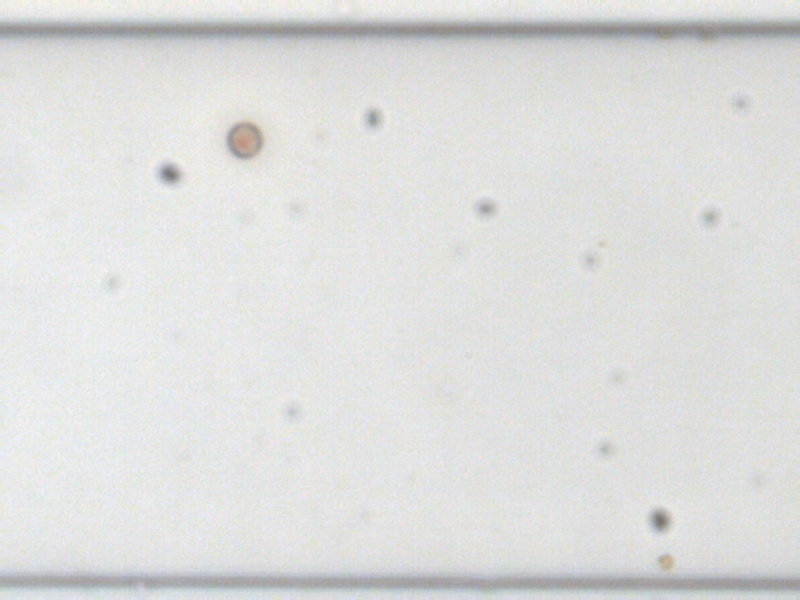Chlorella: (656, 551, 673, 568)
Porphyridium: (224, 120, 265, 159)
